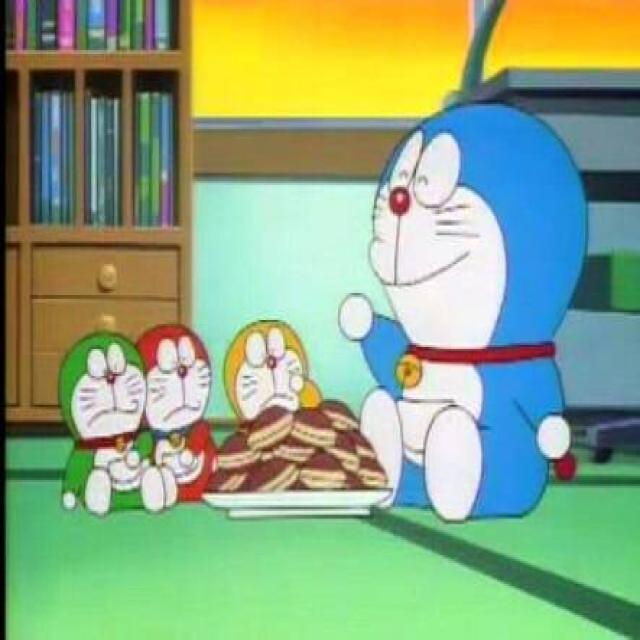doraemon: (366, 97, 598, 396)
